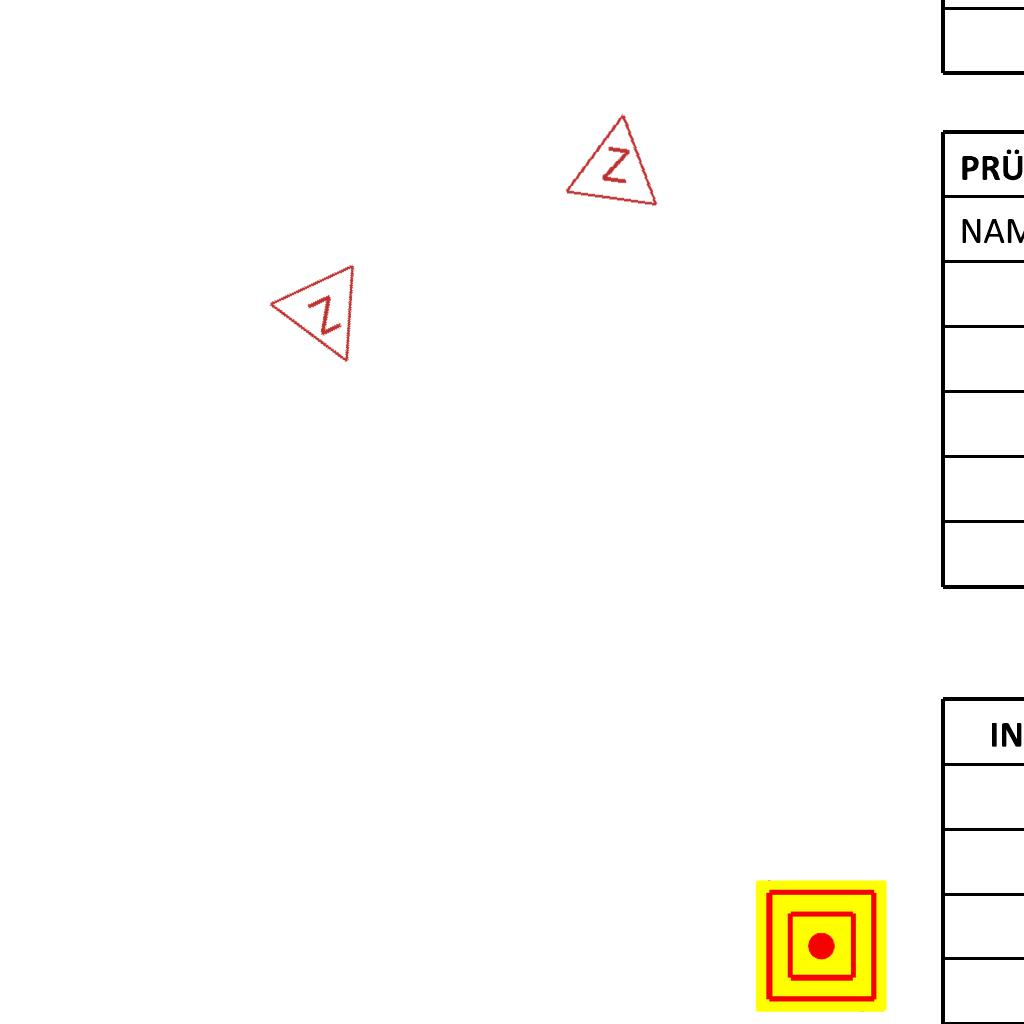NAM-Nichtautomatischer_Melder: (755, 880, 887, 1012)
Zimmersignalleuchte: (264, 255, 396, 389), (560, 100, 672, 214)
